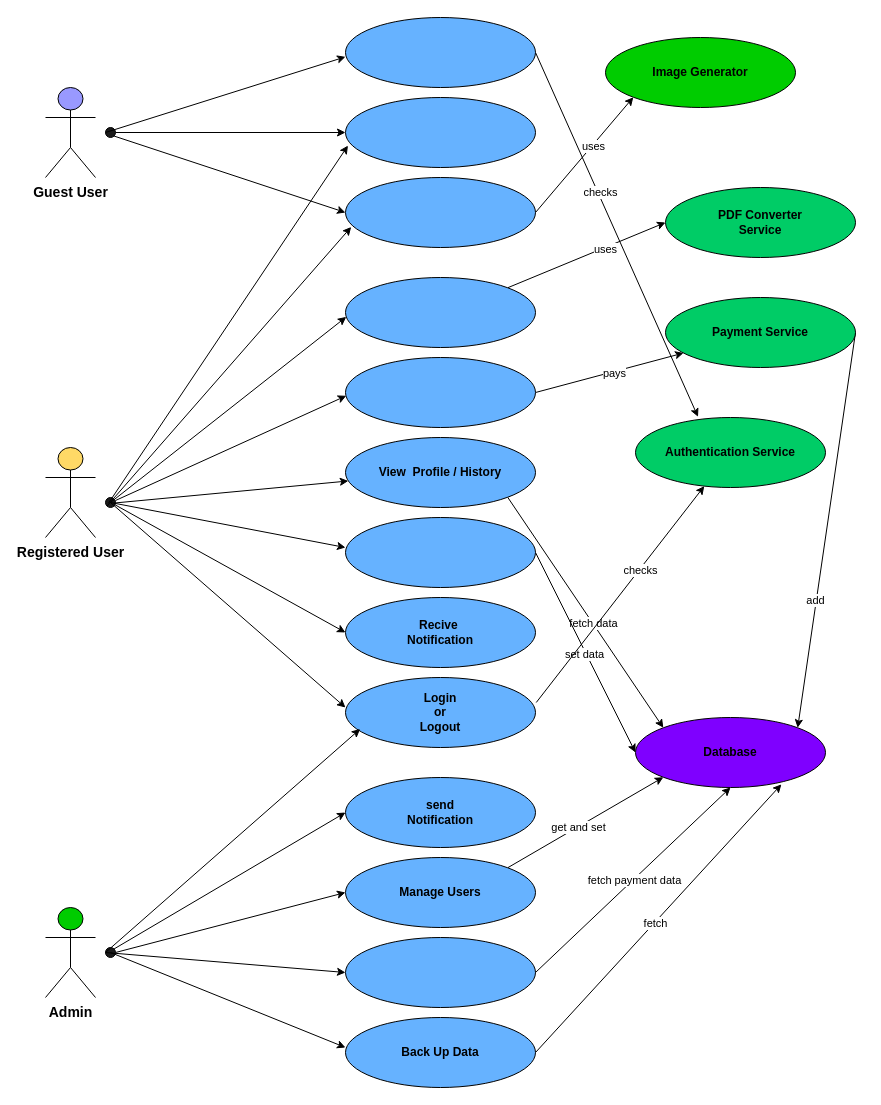
Image size: 881x1105. Some labels were removed from this diagram. Here are the shapes that lost their labels. From the top down, the centre of each, then its label:
At (x=440, y=52): "Register Account".
At (x=440, y=132): "Preview images".
At (x=440, y=212): "Image Generation Request".
At (x=440, y=312): "Download PDF".
At (x=440, y=392): "Buy Credits".
At (x=440, y=552): "Change Settings".
At (x=440, y=972): "Manage payment & Credits".
